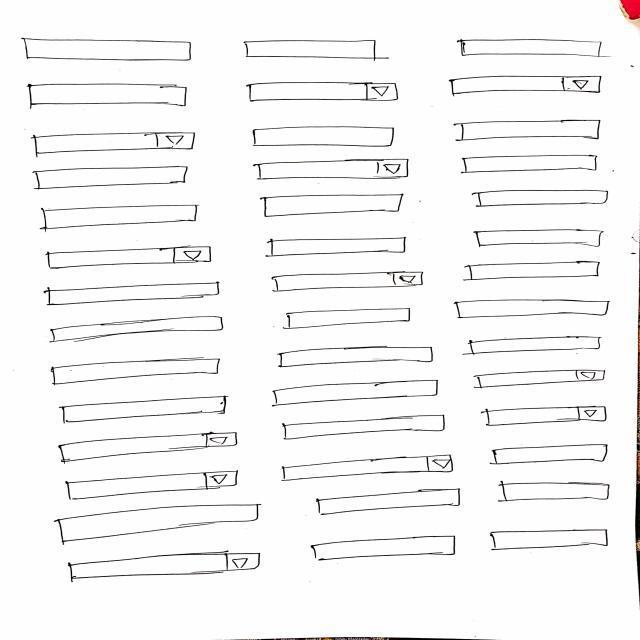textbox: (56, 501, 268, 548), (9, 34, 204, 70), (45, 357, 234, 387), (24, 80, 195, 113), (269, 378, 451, 408), (264, 420, 464, 447), (45, 278, 222, 308), (52, 397, 240, 425), (240, 33, 394, 66), (298, 533, 468, 561), (483, 525, 630, 557), (35, 202, 208, 229), (449, 294, 614, 322), (311, 489, 472, 517), (250, 122, 404, 151), (455, 33, 607, 62), (30, 166, 193, 193), (46, 318, 229, 342), (277, 342, 439, 369), (255, 193, 414, 219), (462, 333, 606, 361), (466, 185, 618, 211), (259, 236, 414, 261), (456, 115, 605, 141), (274, 308, 429, 332), (457, 259, 611, 283), (462, 228, 616, 251), (480, 444, 627, 467), (490, 481, 618, 506), (457, 154, 606, 175)
